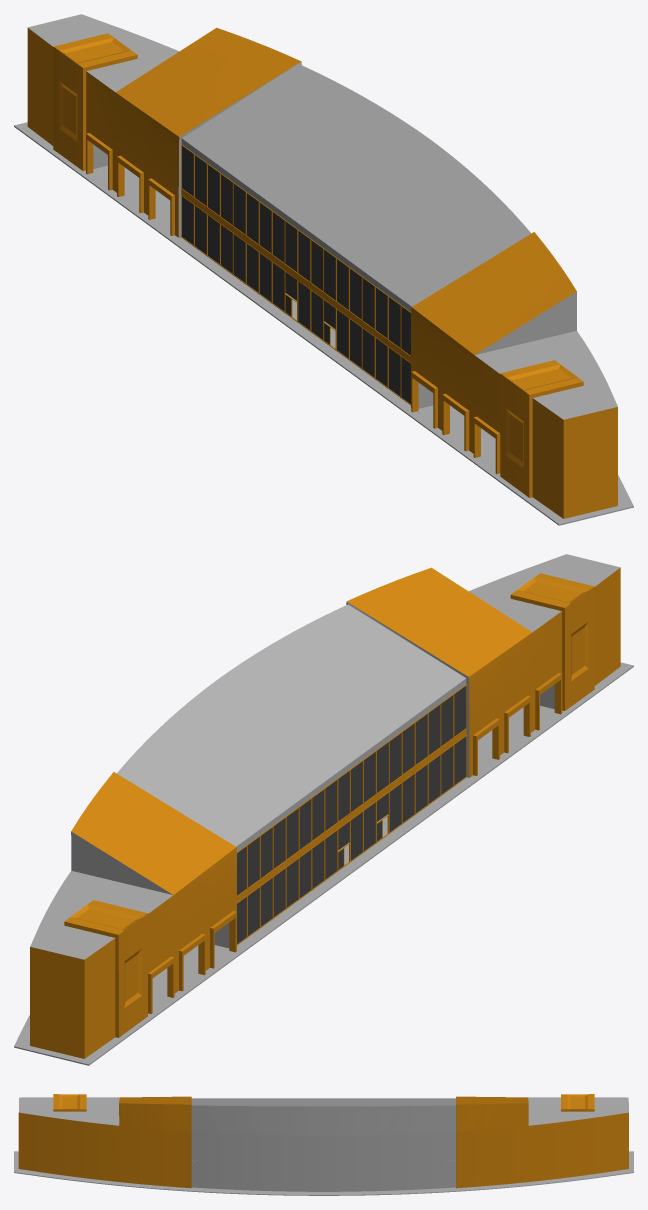
3 views of the same model, one above another, from view 1: azimuth 30°, elevation 25°; view 2: azimuth 150°, elevation 25°; view 3: azimuth 270°, elevation 25° (orthographic). The views are drawn at different scales.
Visible parts, largest first — view 1: SM_CHARGE_STATION2; view 2: SM_CHARGE_STATION2; view 3: SM_CHARGE_STATION2.
Part boxes in pixels (box(x1,y1,x2,y2)): SM_CHARGE_STATION2: box(14, 14, 633, 525); SM_CHARGE_STATION2: box(14, 554, 633, 1065); SM_CHARGE_STATION2: box(14, 1094, 633, 1195).
Bounding box in the file's own units: 2534 × 2328 × 15198.
